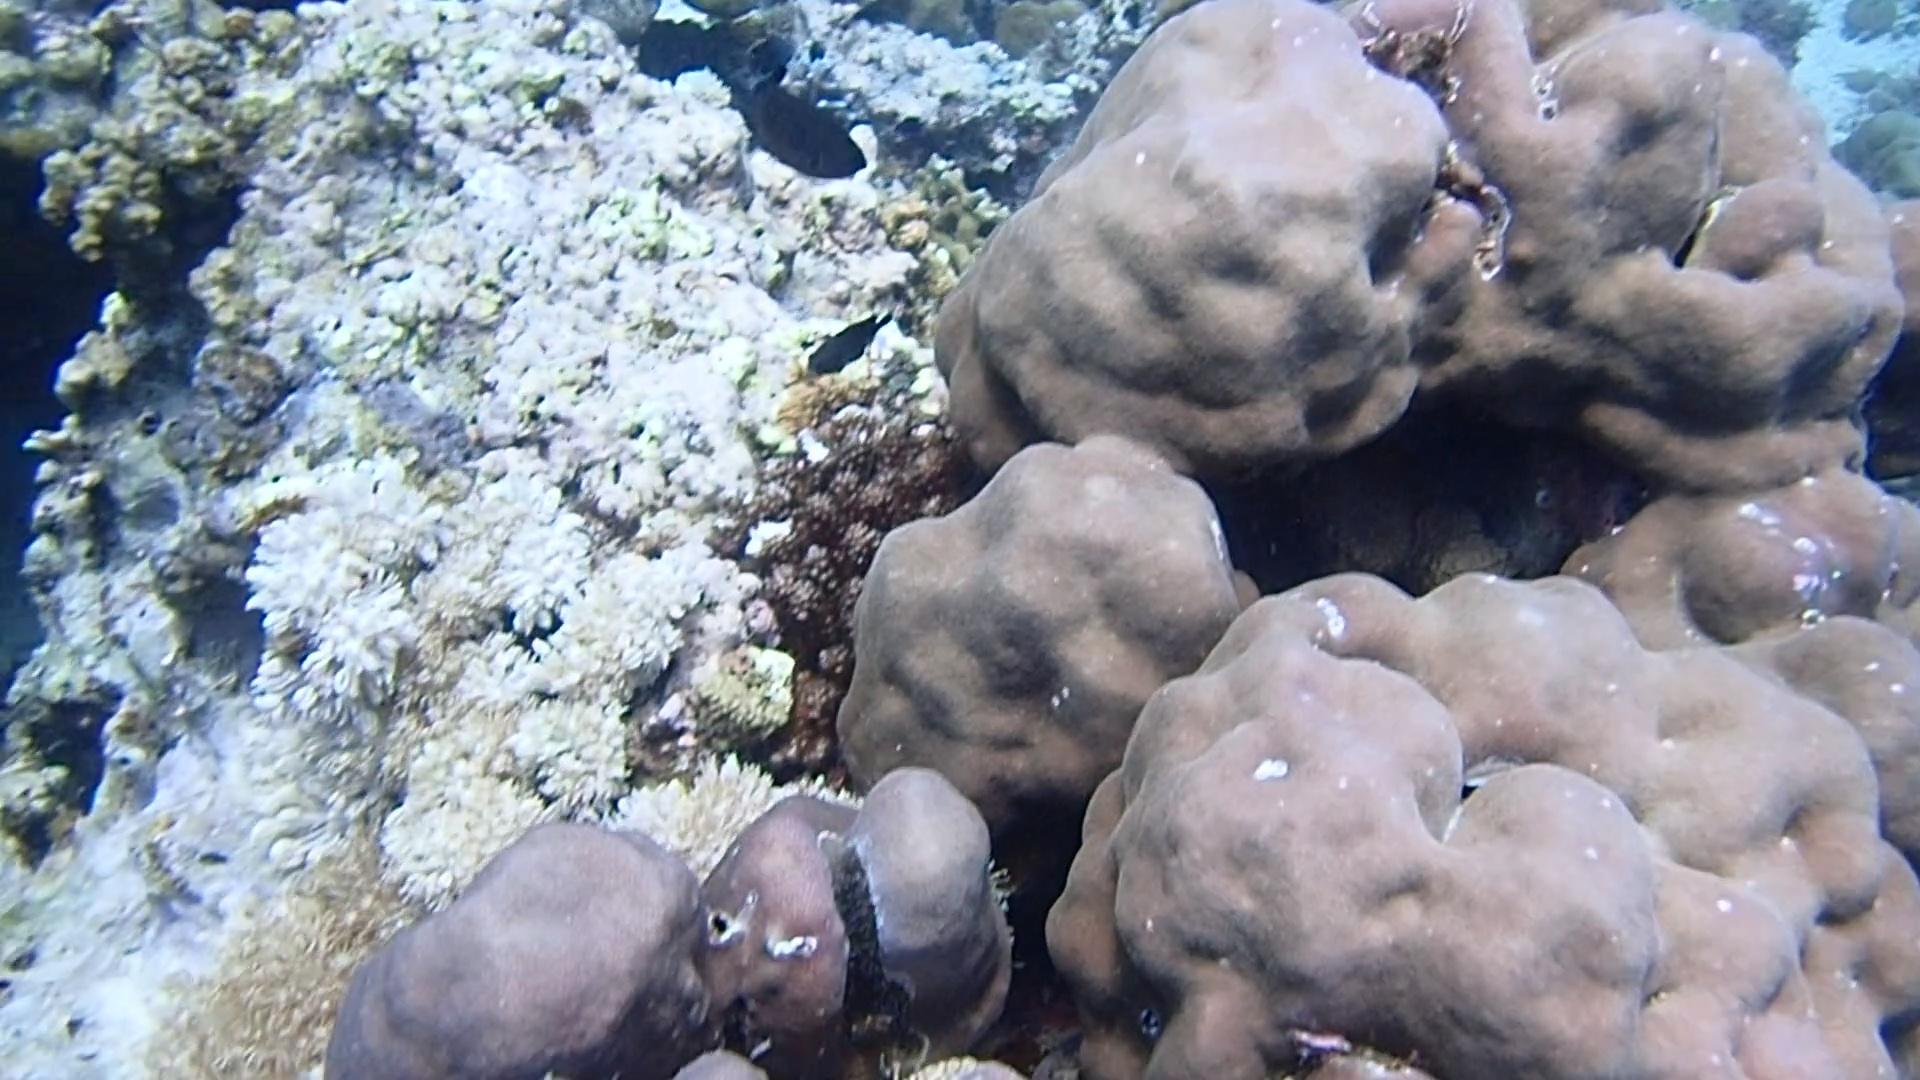Dark Fish: (729, 55, 876, 185), (799, 305, 897, 377), (742, 34, 799, 73), (889, 108, 930, 140)
